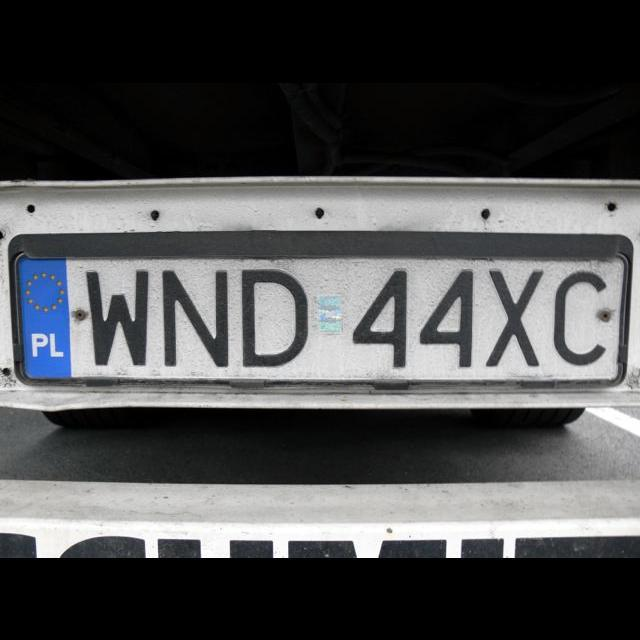license-plates: (10, 231, 634, 386)
